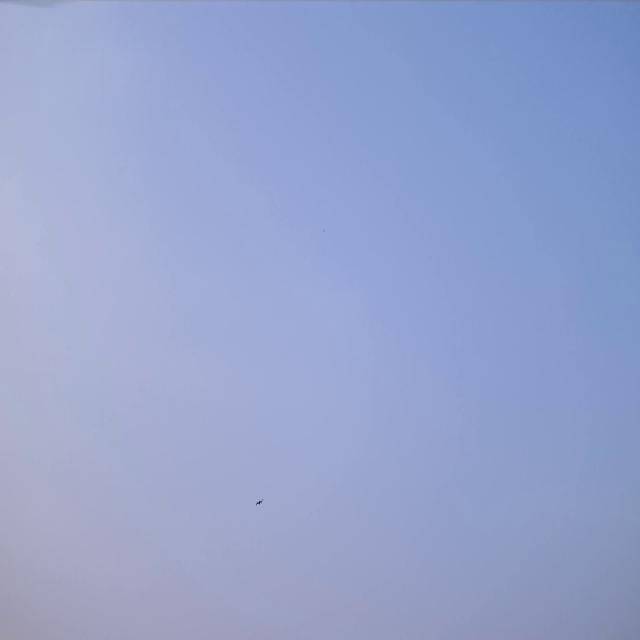UAV: (255, 496, 264, 508)
